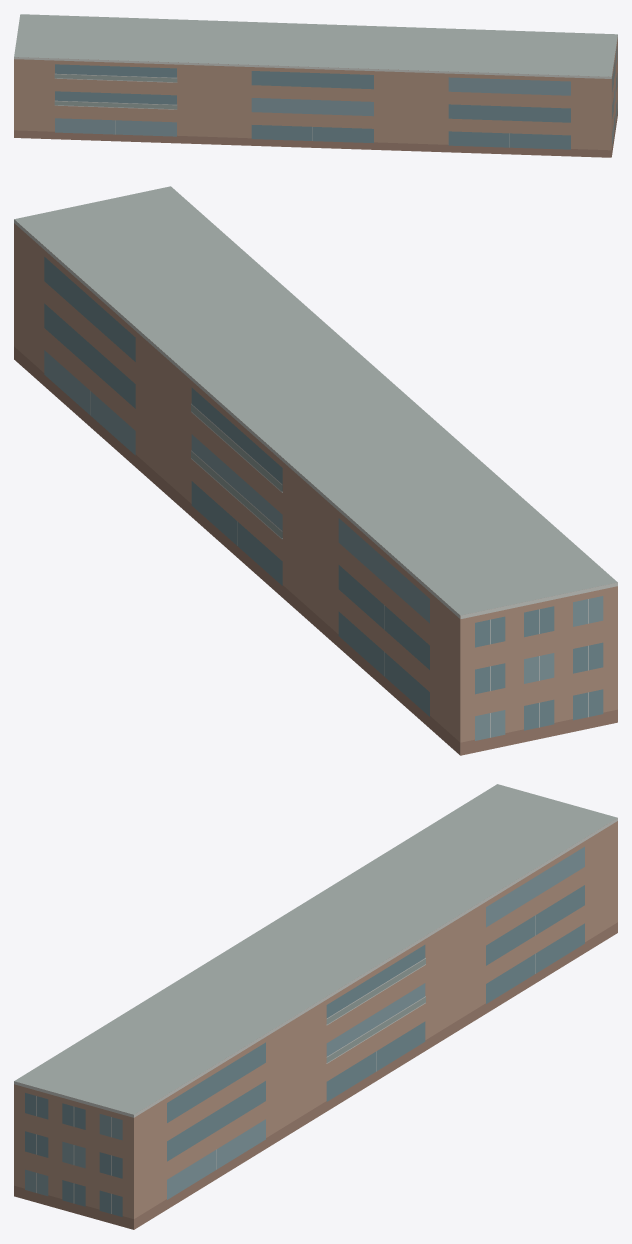
Rendered from survey-upis-32903958.glb.
3 renders of one model, top to bottom at view 1: azimuth 30°, elevation 25°; view 2: azimuth 150°, elevation 25°; view 3: azimuth 270°, elevation 25°, orthographic. The views are drawn at different scales.
Visible parts, largest first — view 1: survey-upis-32903958.tmp; view 2: survey-upis-32903958.tmp; view 3: survey-upis-32903958.tmp.
Part boxes in pixels (box(x1,y1,x2,y2)): survey-upis-32903958.tmp: box(14, 14, 617, 157); survey-upis-32903958.tmp: box(14, 186, 617, 755); survey-upis-32903958.tmp: box(14, 784, 617, 1229).
Bounding box in the file's own units: 56.38 × 9.15 × 43.5.
